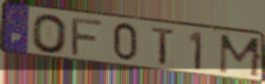0: (111, 21, 141, 65)
1: (188, 31, 203, 73)
F: (69, 17, 106, 59)
M: (217, 33, 264, 80)
O: (30, 13, 69, 56)
T: (150, 25, 179, 67)
